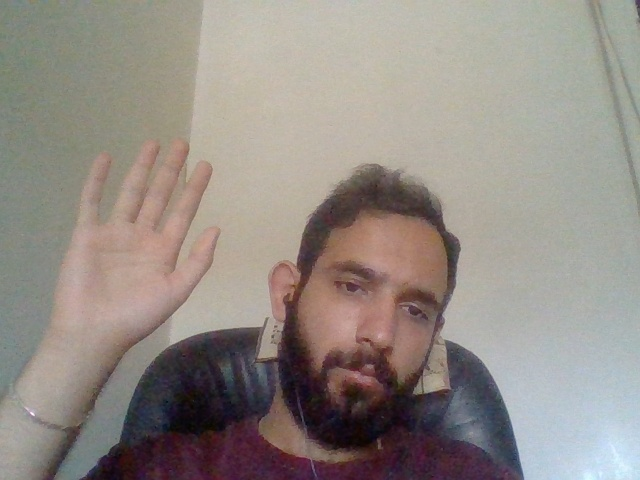Goodbye: (49, 121, 227, 365)
